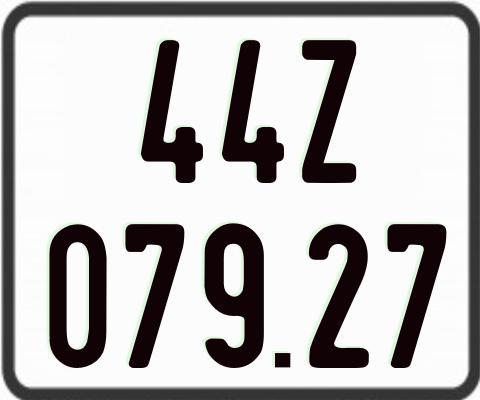0: (48, 222, 112, 367)
2: (309, 223, 371, 369)
4: (140, 38, 204, 186), (221, 39, 285, 187)
7: (124, 223, 183, 372), (386, 222, 445, 369)
9: (201, 223, 261, 370)
Z: (299, 40, 358, 186)
